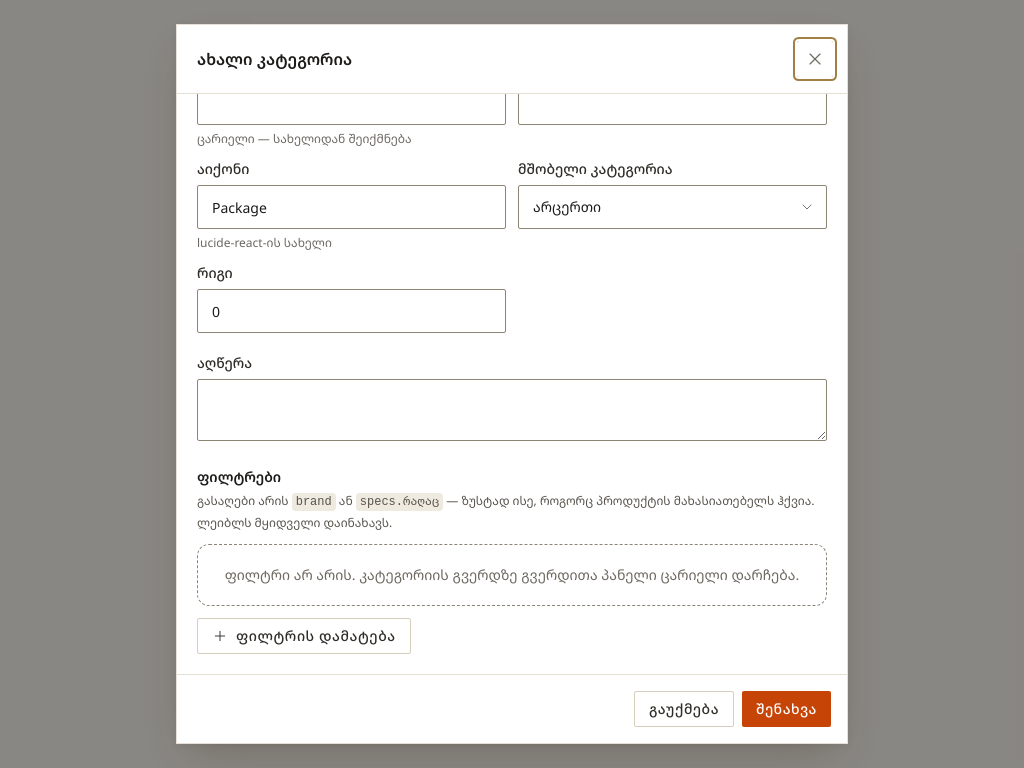
CategoryDialog filters › shows the match field only for a toggle
(page scrolled)
Step 1. Click the button "ფილტრის დამატება" → (304, 636), box left=197, top=618, right=411, bottom=654
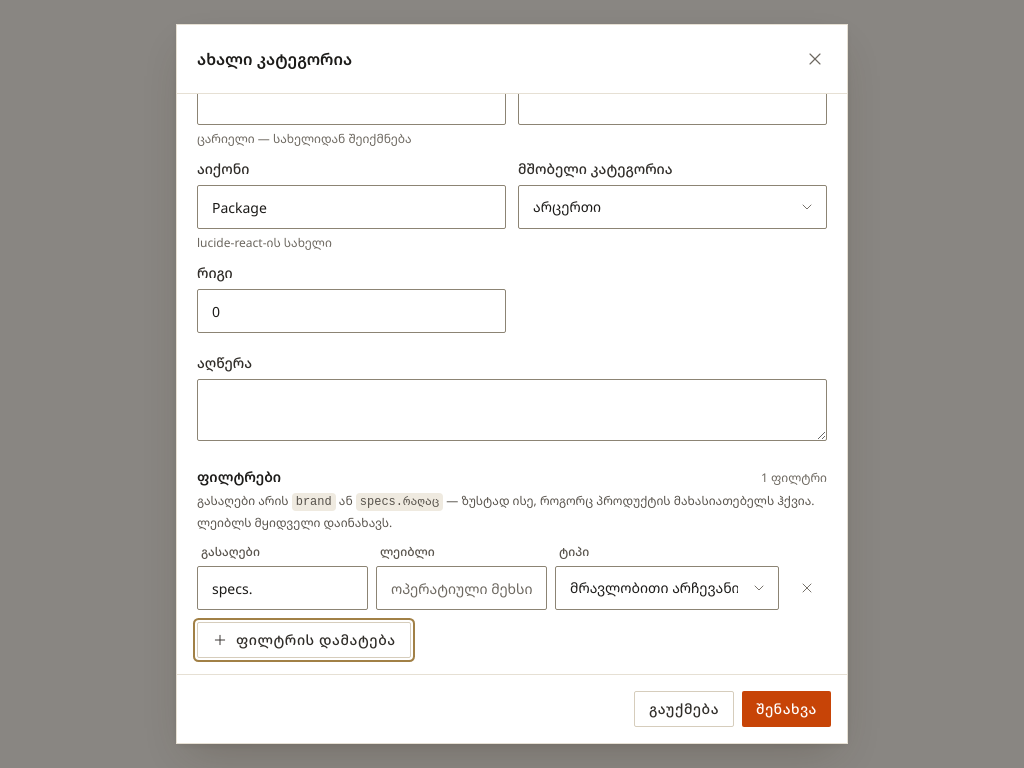
Step 2. Select "ჩართვა/გამორთვა" in the dropdown named "ტიპი" → (667, 588), box left=555, top=566, right=779, bottom=610
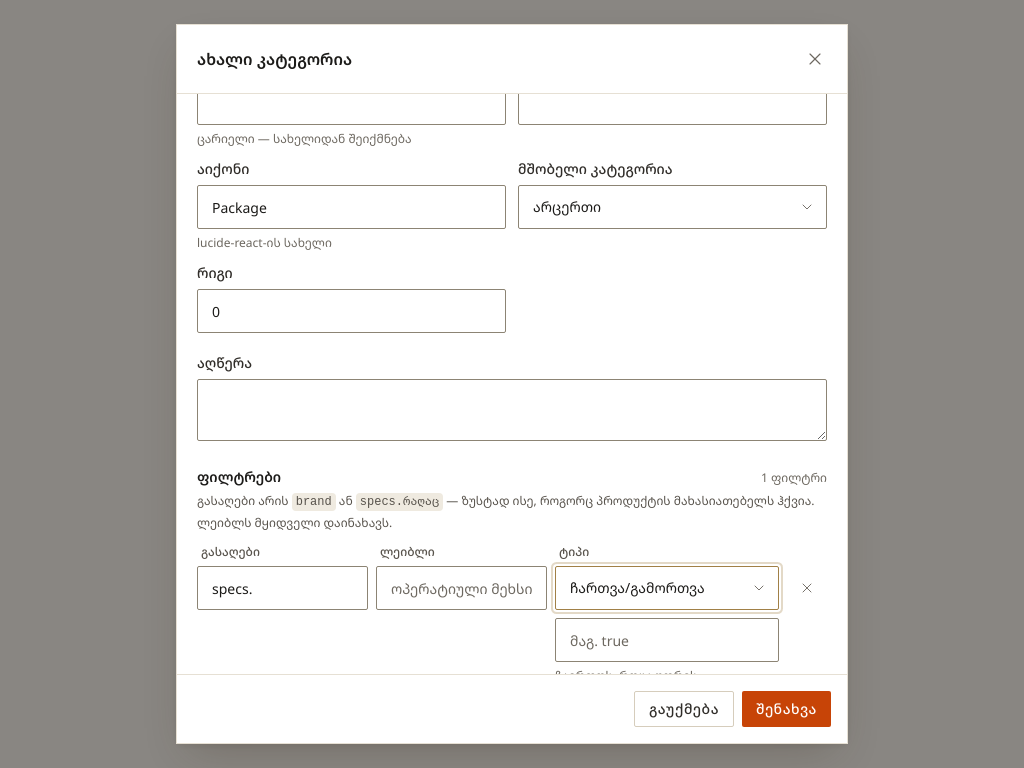
Expected: the field named "ჩართვის მნიშვნელობა" is shown, left=555, top=618, right=779, bottom=662
